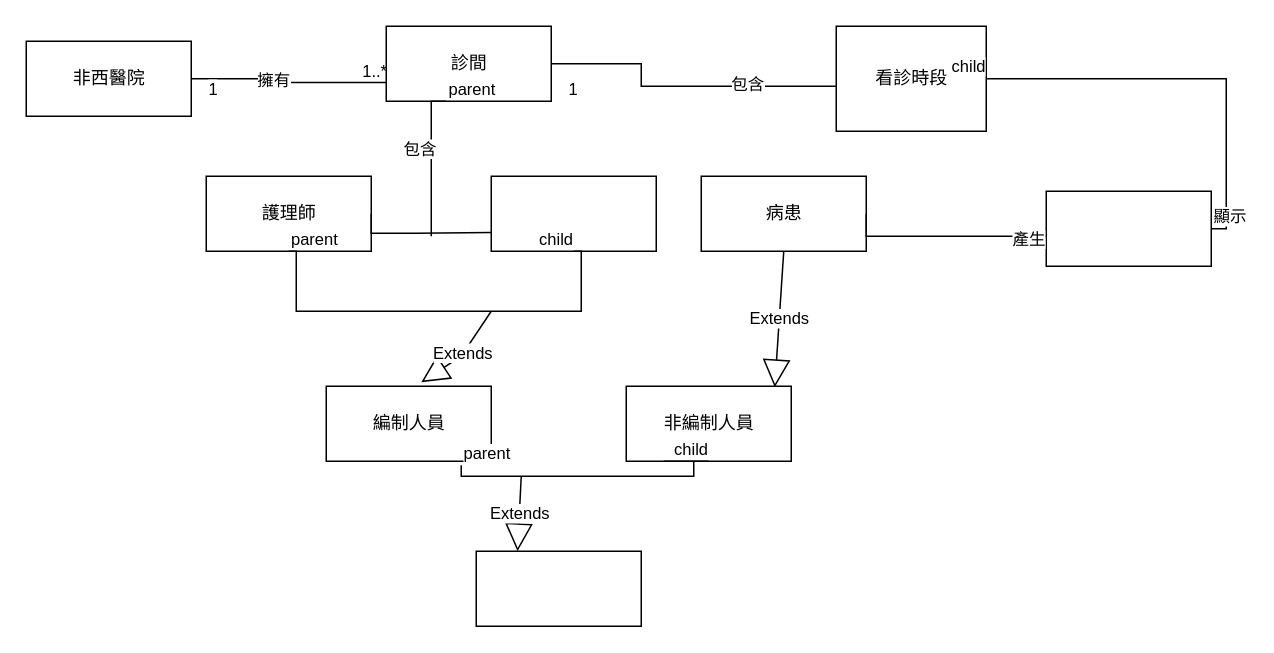
Some shapes in this 1274 by 653 pixel diagram are drawn without their labels. Each missing label, with the box of its shape:
人員名單: (475, 550, 641, 626)
治療名單: (1045, 190, 1211, 266)
醫生: (490, 175, 656, 251)
